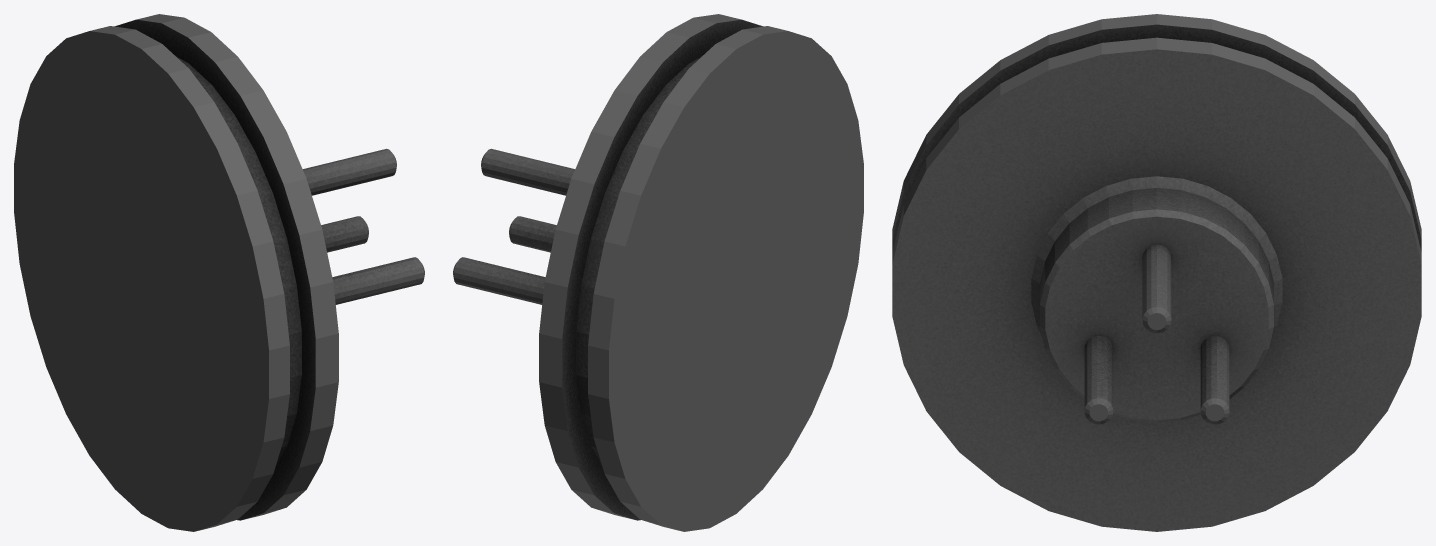
The model's file is wheel_rotor.dae.
3 views of the same model, side by side, from view 1: azimuth 30°, elevation 25°; view 2: azimuth 150°, elevation 25°; view 3: azimuth 270°, elevation 25° (orthographic). The views are drawn at different scales.
Visible parts, largest first — view 1: Cylinder_001; view 2: Cylinder_001; view 3: Cylinder_001.
Boxes of the visible parts, box(x1,y1,x2,y2) form: Cylinder_001: box(14, 14, 424, 531); Cylinder_001: box(453, 14, 863, 531); Cylinder_001: box(892, 14, 1421, 531).
Bounding box in the file's own units: 0.263 × 0.463 × 0.4656.
1 material, 1 textured.
